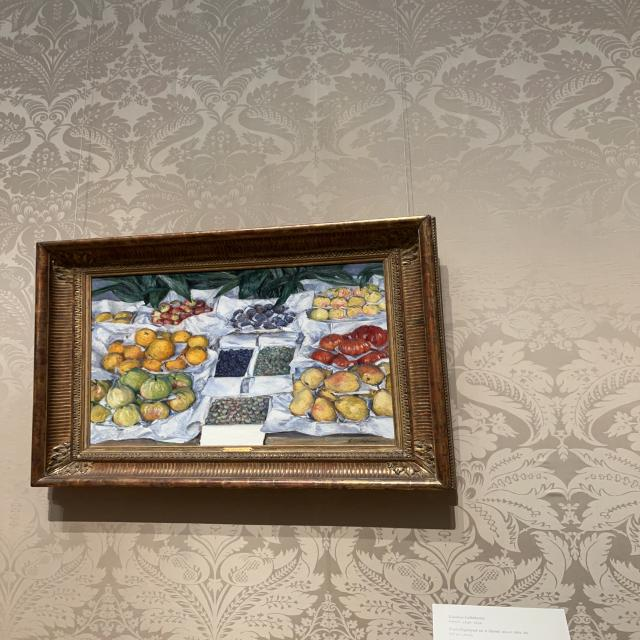fruits: (89, 260, 397, 446)
